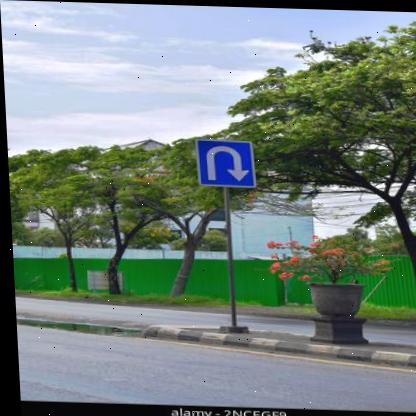U-turn: (186, 139, 259, 189)
